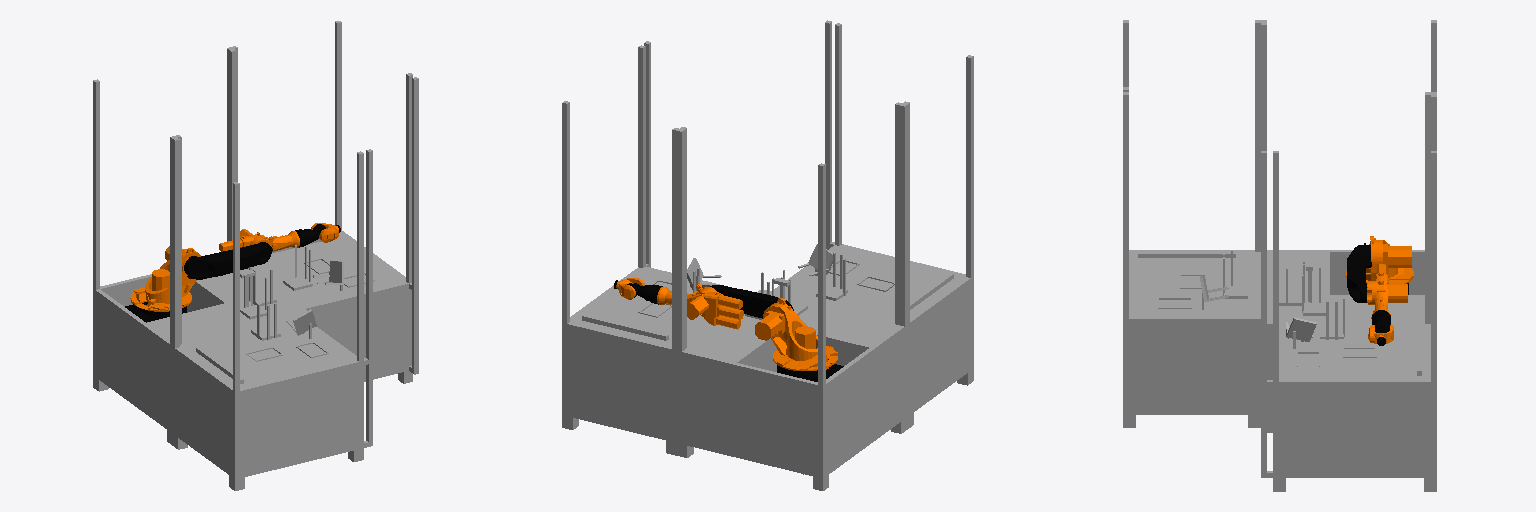
The robot description file, URDF, robot "silia":
<?xml version="1.0" ?>
<!-- =================================================================================== -->
<!-- |    This document was autogenerated by xacro from silia.urdf.xacro               | -->
<!-- |    EDITING THIS FILE BY HAND IS NOT RECOMMENDED                                 | -->
<!-- =================================================================================== -->
<robot name="silia" xmlns:controller="http://playerstage.sourceforge.net/gazebo/xmlschema/#controller" xmlns:interface="http://playerstage.sourceforge.net/gazebo/xmlschema/#interface" xmlns:sensor="http://playerstage.sourceforge.net/gazebo/xmlschema/#sensor" xmlns:xacro="http://ros.org/wiki/xacro">
  <!-- common stuff -->
  <material name="Blue">
    <color rgba="0.0 0.0 0.8 1.0"/>
  </material>
  <material name="Green">
    <color rgba="0.0 0.8 0.0 1.0"/>
  </material>
  <material name="Grey">
    <color rgba="0.7 0.7 0.7 1.0"/>
  </material>
  <material name="Grey2">
    <color rgba="0.9 0.9 0.9 1.0"/>
  </material>
  <material name="Red">
    <color rgba="0.8 0.0 0.0 1.0"/>
  </material>
  <material name="Orange">
    <color rgba="1.0 0.5 0.0 1.0"/>
  </material>
  <material name="White">
    <color rgba="1.0 1.0 1.0 1.0"/>
  </material>
  <material name="Black">
    <color rgba="0.05 0.05 0.05 1.0"/>
  </material>
  <material name="Caster">
    <texture filename="package://pr2_ogre/Media/materials/textures/pr2_caster_texture.png"/>
  </material>
  <material name="Wheel_l">
    <texture filename="package://pr2_ogre/Media/materials/textures/pr2_wheel_left.png"/>
  </material>
  <material name="Wheel_r">
    <texture filename="package://pr2_ogre/Media/materials/textures/pr2_wheel_right.png"/>
  </material>
  <material name="RollLinks">
    <texture filename="package://pr2_ogre/Media/materials/textures/pr2_wheel_left.png"/>
  </material>
  <gazebo>
    <controller:gazebo_ros_controller_manager name="gazebo_ros_controller_manager" plugin="libgazebo_ros_controller_manager.so">
      <alwaysOn>true</alwaysOn>
      <updateRate>1000.0</updateRate>
      <interface:audio name="gazebo_ros_controller_manager_dummy_iface"/>
    </controller:gazebo_ros_controller_manager>
    <controller:gazebo_ros_power_monitor name="gazebo_ros_power_monitor_controller" plugin="libgazebo_ros_power_monitor.so">
      <alwaysOn>true</alwaysOn>
      <updateRate>1.0</updateRate>
      <timeout>5</timeout>
      <interface:audio name="power_monitor_dummy_interface"/>
      <powerStateTopic>power_state</powerStateTopic>
      <powerStateRate>10.0</powerStateRate>
      <fullChargeCapacity>87.78</fullChargeCapacity>
      <dischargeRate>-474</dischargeRate>
      <chargeRate>525</chargeRate>
      <dischargeVoltage>15.52</dischargeVoltage>
      <chargeVoltage>16.41</chargeVoltage>
    </controller:gazebo_ros_power_monitor>
  </gazebo>
  <!-- arm mount positions | relative to base_link -->
  <!-- arm reference positions | used as calibration_rising for arm chain-->
  <!-- arm -->
  <link name="base_link">
    <inertial>
      <origin rpy="0 0 0" xyz="0 0 0"/>
      <mass value="1.0"/>
      <inertia ixx="0.01" ixy="0" ixz="0" iyy="0.01" iyz="0" izz="0.01"/>
    </inertial>
    <visual>
      <origin rpy="0 0 0" xyz="0 0 -0.07"/>
      <geometry>
        <box size="0.01 0.01 0.01"/>
      </geometry>
    </visual>
    <collision>
      <origin rpy="0 0 0" xyz="0 0 0"/>
      <geometry>
        <box size="0.01 0.01 0.01"/>
      </geometry>
    </collision>
  </link>
  <!-- workcell -->
  <joint name="stack_joint" type="fixed">
    <origin rpy="0 0 3.14159265359" xyz="0 0 0.6"/>
    <parent link="base_link"/>
    <child link="stack_link"/>
  </joint>
  <link name="stack_link">
    <inertial>
      <origin rpy="0 0 0" xyz="0 0 0"/>
      <mass value="20"/>
      <inertia ixx="0.01" ixy="0" ixz="0" iyy="0.01" iyz="0" izz="0.01"/>
    </inertial>
    <visual>
      <origin rpy="0 0 0" xyz="0 0 0"/>
      <geometry>
        <!--cylinder radius="0.060" length="0.30"/-->
        <mesh filename="package://cob_kuka_description/meshes/kr16/stack.stl"/>
      </geometry>
      <material name="Grey"/>
    </visual>
    <collision>
      <origin rpy="0 0 0" xyz="0 0 0"/>
      <geometry>
        <mesh filename="package://cob_kuka_description/meshes/kr16/stack.stl"/>
      </geometry>
    </collision>
  </link>
  <gazebo reference="stack_link">
    <material>Gazebo/Grey</material>
    <turnGravityOff>false</turnGravityOff>
  </gazebo>
  <!-- composition of the robot -->
  <joint name="arm_0_joint" type="fixed">
    <origin rpy="0 0 0" xyz="0 0 0.6"/>
    <parent link="base_link"/>
    <child link="arm_0_link"/>
  </joint>
  <link name="arm_0_link">
    <inertial>
      <origin rpy="0 0 0" xyz="0 0 0"/>
      <mass value="1.0"/>
      <inertia ixx="0.01" ixy="0" ixz="0" iyy="0.01" iyz="0" izz="0.01"/>
    </inertial>
    <visual>
      <origin rpy="0 0 0" xyz="0 0 0"/>
      <geometry>
        <!--cylinder radius="0.060" length="0.30"/-->
        <mesh filename="package://cob_kuka_description/meshes/kr16/joint_0.stl"/>
      </geometry>
      <material name="Black"/>
    </visual>
    <collision>
      <origin rpy="0 0 0" xyz="0 0 0"/>
      <geometry>
        <mesh filename="package://cob_kuka_description/meshes/kr16/joint_0.stl"/>
      </geometry>
    </collision>
  </link>
  <joint name="arm_1_joint" type="revolute">
    <origin rpy="3.14159265359 0 0" xyz="0 0 0.390"/>
    <parent link="arm_0_link"/>
    <child link="arm_1_link"/>
    <axis xyz="0 0 1"/>
    <calibration rising="0.0"/>
    <dynamics damping="10"/>
    <limit effort="200" lower="-2.9670" upper="2.9670" velocity="1.9634"/>
    <safety_controller k_position="20" k_velocity="50" soft_lower_limit="-2.957" soft_upper_limit="2.957"/>
  </joint>
  <link name="arm_1_link">
    <inertial>
      <origin rpy="0 0 0" xyz="0 0 0"/>
      <!--mass value="5.9907"/-->
      <mass value="2.0"/>
      <inertia ixx="0.01" ixy="0" ixz="0" iyy="0.01" iyz="0" izz="0.01"/>
    </inertial>
    <visual>
      <origin rpy="0 0 0" xyz="0 0 0"/>
      <geometry>
        <mesh filename="package://cob_kuka_description/meshes/kr16/joint_1.stl"/>
      </geometry>
      <material name="Orange"/>
    </visual>
    <collision>
      <origin rpy="0 0 0" xyz="0 0 0"/>
      <geometry>
        <mesh filename="package://cob_kuka_description/meshes/kr16/joint_1.stl"/>
      </geometry>
    </collision>
  </link>
  <joint name="arm_2_joint" type="revolute">
    <origin rpy="1.57079632679 0 0" xyz="0.260 0.07 -0.285"/>
    <parent link="arm_1_link"/>
    <child link="arm_2_link"/>
    <axis xyz="0 0 1"/>
    <calibration rising="0.0"/>
    <dynamics damping="10"/>
    <limit effort="200" lower="-2.0943" upper="2.0943" velocity="1.9634"/>
    <safety_controller k_position="20" k_velocity="50" soft_lower_limit="-2.0843" soft_upper_limit="2.0843"/>
  </joint>
  <link name="arm_2_link">
    <inertial>
      <origin rpy="0 0 0" xyz="0 0 0"/>
      <!--mass value="5.734939"/-->
      <mass value="2.0"/>
      <inertia ixx="0.03" ixy="0" ixz="0" iyy="0.03" iyz="0" izz="0.03"/>
    </inertial>
    <visual>
      <origin rpy="0 0 0" xyz="0 0 0"/>
      <geometry>
        <mesh filename="package://cob_kuka_description/meshes/kr16/joint_2.stl"/>
      </geometry>
      <material name="Black"/>
    </visual>
    <collision>
      <origin rpy="0 0 0" xyz="0 0 0"/>
      <geometry>
        <mesh filename="package://cob_kuka_description/meshes/kr16/joint_2.stl"/>
      </geometry>
    </collision>
  </link>
  <joint name="arm_3_joint" type="revolute">
    <origin rpy="0 0 0" xyz="0.680 0 -0.04"/>
    <parent link="arm_2_link"/>
    <child link="arm_3_link"/>
    <axis xyz="0 0 1"/>
    <calibration rising="0.0"/>
    <dynamics damping="5"/>
    <limit effort="100" lower="-2.9670" upper="2.9670" velocity="1.9634"/>
    <safety_controller k_position="20" k_velocity="25" soft_lower_limit="-2.957" soft_upper_limit="2.957"/>
  </joint>
  <link name="arm_3_link">
    <inertial>
      <origin rpy="0 0 0" xyz="0 0 0"/>
      <mass value="2.0"/>
      <inertia ixx="0.03" ixy="0" ixz="0" iyy="0.03" iyz="0" izz="0.03"/>
    </inertial>
    <visual>
      <origin rpy="0 0 0" xyz="0 0 0"/>
      <geometry>
        <mesh filename="package://cob_kuka_description/meshes/kr16/joint_3.stl"/>
      </geometry>
      <material name="Orange"/>
    </visual>
    <collision>
      <origin rpy="0 0 0" xyz="0 0 0"/>
      <geometry>
        <mesh filename="package://cob_kuka_description/meshes/kr16/joint_3.stl"/>
        <!--box size="0.01 0.01 0.01"/-->
      </geometry>
    </collision>
  </link>
  <joint name="arm_4_joint" type="revolute">
    <origin rpy="0 -1.57079632679 0" xyz="0.400 0.035 0.118"/>
    <parent link="arm_3_link"/>
    <child link="arm_4_link"/>
    <axis xyz="0 0 1"/>
    <calibration rising="0.0"/>
    <dynamics damping="5"/>
    <limit effort="100" lower="-2.0943" upper="2.0943" velocity="1.9634"/>
    <safety_controller k_position="20" k_velocity="25" soft_lower_limit="-2.0843" soft_upper_limit="2.0843"/>
  </joint>
  <link name="arm_4_link">
    <inertial>
      <origin rpy="0 0 0" xyz="0 0 0"/>
      <mass value="2.0"/>
      <inertia ixx="0.03" ixy="0" ixz="0" iyy="0.03" iyz="0" izz="0.03"/>
    </inertial>
    <visual>
      <origin rpy="0 0 0" xyz="0 0 0"/>
      <geometry>
        <mesh filename="package://cob_kuka_description/meshes/kr16/joint_4.stl"/>
      </geometry>
      <material name="Black"/>
    </visual>
    <collision>
      <origin rpy="0 0 0" xyz="0 0 0"/>
      <geometry>
        <mesh filename="package://cob_kuka_description/meshes/kr16/joint_4.stl"/>
      </geometry>
    </collision>
  </link>
  <joint name="arm_5_joint" type="revolute">
    <origin rpy="0 1.57079632679 0" xyz="0.1 0 -0.270"/>
    <parent link="arm_4_link"/>
    <child link="arm_5_link"/>
    <axis xyz="0 0 1"/>
    <calibration rising="0.0"/>
    <dynamics damping="5"/>
    <limit effort="100" lower="-2.9670" upper="2.9670" velocity="1.9634"/>
    <safety_controller k_position="20" k_velocity="25" soft_lower_limit="-2.957" soft_upper_limit="2.957"/>
  </joint>
  <link name="arm_5_link">
    <inertial>
      <origin rpy="0 0 0" xyz="0 0 0"/>
      <mass value="2.313272"/>
      <inertia ixx="0.03" ixy="0" ixz="0" iyy="0.03" iyz="0" izz="0.03"/>
    </inertial>
    <visual>
      <origin rpy="0 0 0" xyz="0 0 0"/>
      <geometry>
        <mesh filename="package://cob_kuka_description/meshes/kr16/joint_5.stl"/>
      </geometry>
      <material name="Orange"/>
    </visual>
    <collision>
      <origin rpy="0 0 0" xyz="0 0 0"/>
      <geometry>
        <mesh filename="package://cob_kuka_description/meshes/kr16/joint_5.stl"/>
      </geometry>
    </collision>
  </link>
  <joint name="arm_6_joint" type="revolute">
    <origin rpy="0 -1.57079632679 0" xyz="0.158 0 -0.1"/>
    <parent link="arm_5_link"/>
    <child link="arm_6_link"/>
    <axis xyz="0 0 1"/>
    <calibration rising="0.0"/>
    <dynamics damping="5"/>
    <limit effort="30" lower="-2.0943951" upper="2.0943951" velocity="1.9634"/>
    <safety_controller k_position="20" k_velocity="25" soft_lower_limit="-2.0843951" soft_upper_limit="2.0843951"/>
  </joint>
  <link name="arm_6_link">
    <inertial>
      <origin rpy="0 0 0" xyz="0 0 0"/>
      <mass value="2.057856"/>
      <inertia ixx="0.01" ixy="0" ixz="0" iyy="0.01" iyz="0" izz="0.01"/>
    </inertial>
    <visual>
      <origin rpy="0 0 0" xyz="0 0 0"/>
      <geometry>
        <mesh filename="package://cob_kuka_description/meshes/kr16/joint_6.stl"/>
      </geometry>
      <material name="Black"/>
    </visual>
    <collision>
      <origin rpy="0 0 0" xyz="0 0 0"/>
      <geometry>
        <mesh filename="package://cob_kuka_description/meshes/kr16/joint_6.stl"/>
      </geometry>
    </collision>
  </link>
  <gazebo reference="arm_0_link">
    <material value="PR2/Red"/>
    <turnGravityOff>false</turnGravityOff>
  </gazebo>
  <gazebo reference="arm_1_link">
    <material value="PR2/Blue"/>
    <turnGravityOff>false</turnGravityOff>
  </gazebo>
  <gazebo reference="arm_2_link">
    <material value="PR2/Red"/>
    <turnGravityOff>false</turnGravityOff>
  </gazebo>
  <gazebo reference="arm_3_link">
    <material value="PR2/Blue"/>
    <turnGravityOff>false</turnGravityOff>
  </gazebo>
  <gazebo reference="arm_4_link">
    <material value="PR2/Red"/>
    <turnGravityOff>false</turnGravityOff>
  </gazebo>
  <gazebo reference="arm_5_link">
    <material value="PR2/Blue"/>
    <turnGravityOff>false</turnGravityOff>
  </gazebo>
  <gazebo reference="arm_6_link">
    <material value="PR2/Red"/>
    <turnGravityOff>false</turnGravityOff>
  </gazebo>
  <transmission name="arm_1_trans" type="pr2_mechanism_model/SimpleTransmission">
    <actuator name="arm_1_motor"/>
    <joint name="arm_1_joint"/>
    <mechanicalReduction>1</mechanicalReduction>
  </transmission>
  <transmission name="arm_2_trans" type="pr2_mechanism_model/SimpleTransmission">
    <actuator name="arm_2_motor"/>
    <joint name="arm_2_joint"/>
    <mechanicalReduction>1</mechanicalReduction>
  </transmission>
  <transmission name="arm_3_trans" type="pr2_mechanism_model/SimpleTransmission">
    <actuator name="arm_3_motor"/>
    <joint name="arm_3_joint"/>
    <mechanicalReduction>1</mechanicalReduction>
  </transmission>
  <transmission name="arm_4_trans" type="pr2_mechanism_model/SimpleTransmission">
    <actuator name="arm_4_motor"/>
    <joint name="arm_4_joint"/>
    <mechanicalReduction>1</mechanicalReduction>
  </transmission>
  <transmission name="arm_5_trans" type="pr2_mechanism_model/SimpleTransmission">
    <actuator name="arm_5_motor"/>
    <joint name="arm_5_joint"/>
    <mechanicalReduction>1</mechanicalReduction>
  </transmission>
  <transmission name="arm_6_trans" type="pr2_mechanism_model/SimpleTransmission">
    <actuator name="arm_6_motor"/>
    <joint name="arm_6_joint"/>
    <mechanicalReduction>1</mechanicalReduction>
  </transmission>
</robot>

--- What the picture shows (computed from the rendered views, not written in the file) ---
Views: 3 orthographic renders of the robot side by side, from view 1: azimuth 30°, elevation 25°; view 2: azimuth 150°, elevation 25°; view 3: azimuth 270°, elevation 25°.
Model silia with 9 links and 8 joints (6 revolute, 2 fixed), rooted at base_link, posed all joints at 0.
Visible links, largest first — view 1: stack_link, arm_1_link, arm_2_link, arm_3_link; view 2: stack_link, arm_1_link, arm_3_link, arm_2_link; view 3: stack_link, arm_1_link, arm_3_link, arm_2_link.
Boxes of the visible links, left/top/right/bottom form: stack_link: left=93, top=21, right=418, bottom=490; arm_1_link: left=130, top=246, right=200, bottom=311; arm_2_link: left=184, top=242, right=272, bottom=279; arm_3_link: left=219, top=229, right=299, bottom=251; stack_link: left=562, top=20, right=973, bottom=490; arm_1_link: left=755, top=298, right=837, bottom=370; arm_3_link: left=657, top=284, right=743, bottom=329; arm_2_link: left=710, top=285, right=793, bottom=318; stack_link: left=1123, top=20, right=1436, bottom=491; arm_1_link: left=1346, top=236, right=1413, bottom=283; arm_3_link: left=1367, top=264, right=1407, bottom=318; arm_2_link: left=1347, top=243, right=1371, bottom=302.
Bounding box of the posed robot: 2.48 × 2.48 × 3.08 m (x, y, z).
Meshes: 8 distinct files referenced, 8 mesh visuals loaded (8 binary STL).
